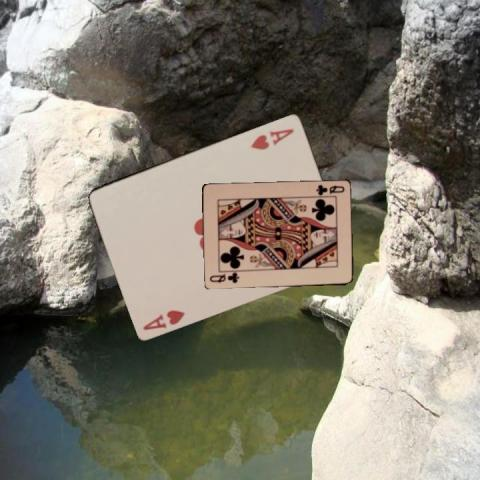Ah: (248, 125, 296, 151), (139, 306, 187, 331)
Qc: (313, 182, 345, 197), (206, 270, 240, 284)
